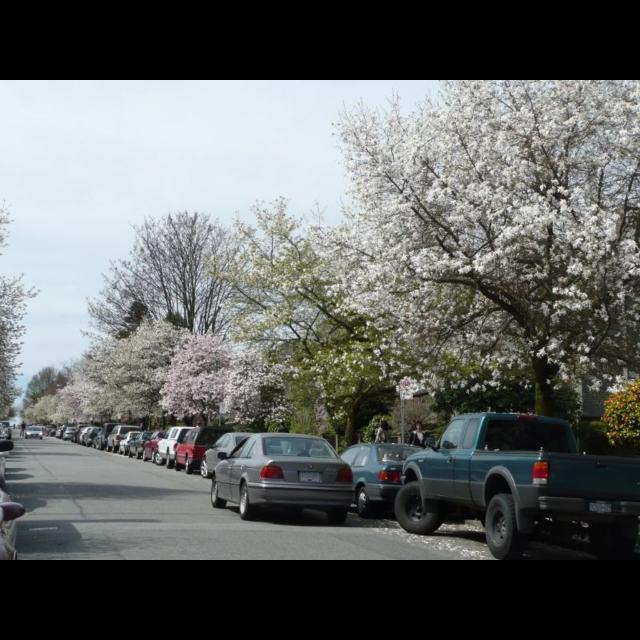Flower: (603, 382, 639, 444)
